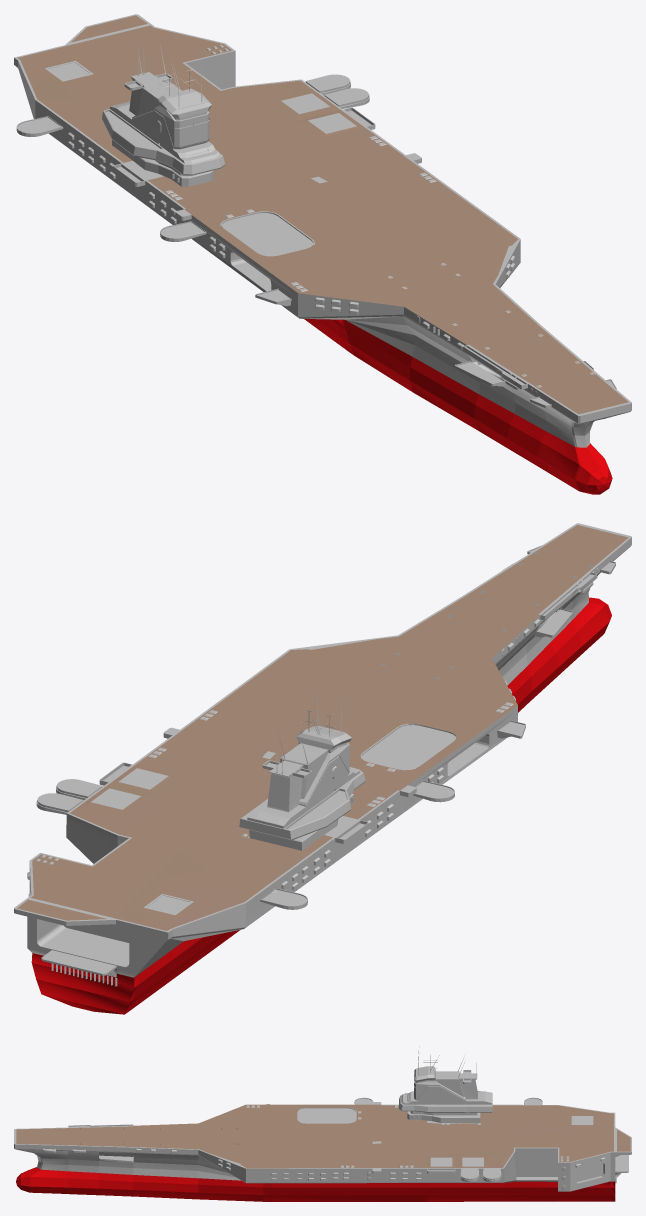
File: big_carrier1.fbx
3 renders of one model, top to bottom at view 1: azimuth 30°, elevation 25°; view 2: azimuth 150°, elevation 25°; view 3: azimuth 270°, elevation 25°, orthographic. The views are drawn at different scales.
Parts seen in each view (by area): view 1: big_carrier1; view 2: big_carrier1; view 3: big_carrier1.
Part boxes in pixels (x1=…): big_carrier1: x1=14, y1=14, x2=631, y2=494; big_carrier1: x1=14, y1=523, x2=631, y2=1014; big_carrier1: x1=14, y1=1046, x2=631, y2=1201.
Size of the model in its own units: 2322 by 1592 by 7121.
